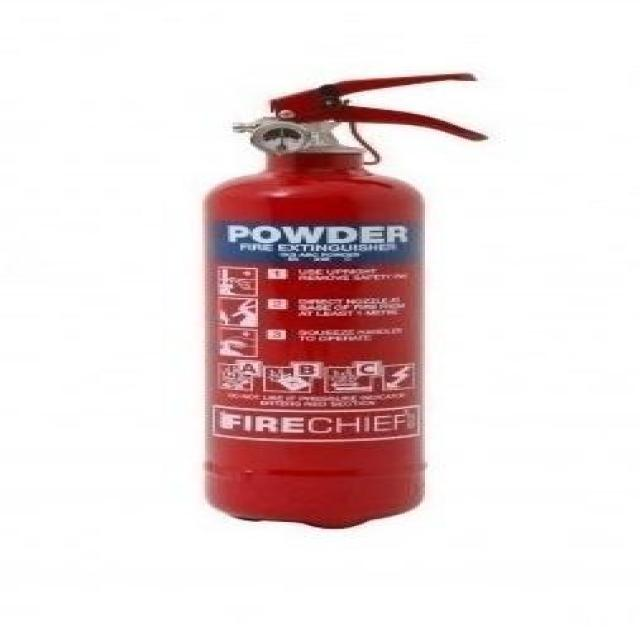fire_extinguisher: (187, 68, 493, 528)
